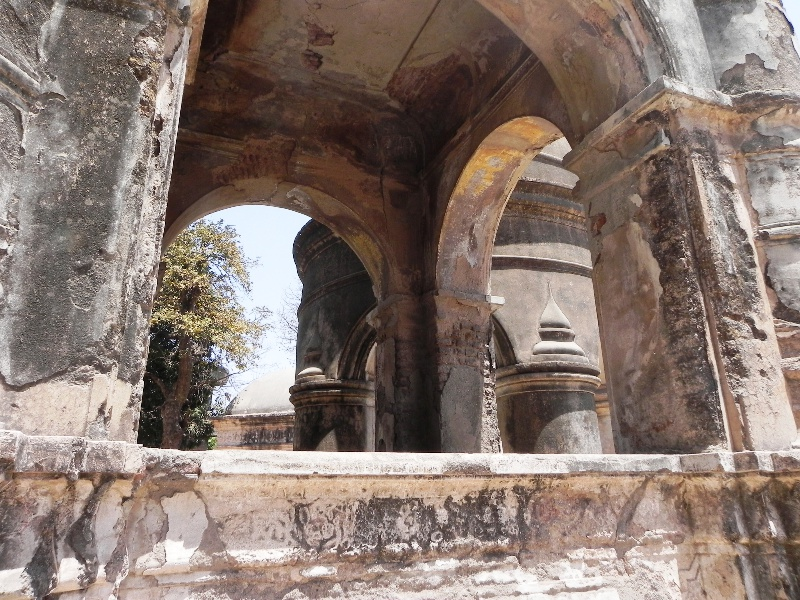Exposed Bricks: (391, 319, 486, 381)
